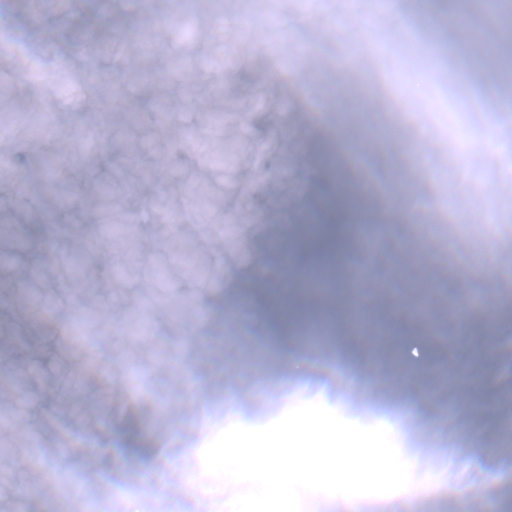Iceberg: (412, 348, 418, 356)
